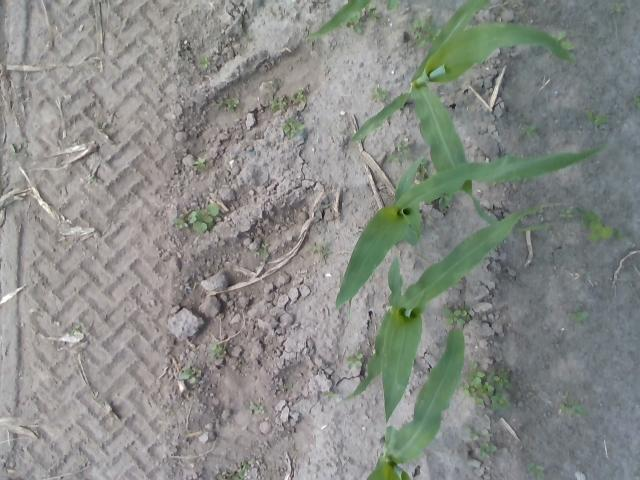Maize: (352, 0, 578, 233), (334, 144, 602, 332), (342, 201, 562, 423), (365, 328, 465, 480), (304, 1, 397, 40)
Weeds: (464, 362, 494, 406), (413, 12, 440, 46), (194, 202, 218, 232), (588, 222, 612, 243), (560, 396, 582, 417), (444, 308, 469, 326), (282, 118, 304, 137), (174, 211, 196, 228), (580, 210, 600, 228), (586, 109, 606, 126), (490, 394, 510, 410), (347, 350, 363, 370), (181, 368, 201, 384), (528, 462, 544, 479), (479, 442, 496, 458), (232, 462, 247, 480), (369, 87, 388, 101), (270, 94, 286, 110), (363, 5, 380, 20), (292, 87, 308, 102), (494, 370, 508, 387), (348, 18, 362, 34), (522, 122, 538, 136), (572, 306, 586, 322), (202, 57, 216, 72), (194, 157, 209, 171), (398, 140, 414, 153), (210, 344, 224, 358), (271, 77, 283, 92), (227, 98, 240, 111), (466, 428, 479, 440), (560, 39, 574, 50), (560, 208, 574, 219), (386, 152, 398, 164), (324, 390, 341, 398), (610, 3, 622, 14), (10, 144, 22, 154), (421, 160, 429, 174), (252, 406, 266, 414), (309, 245, 320, 255), (558, 28, 566, 40), (89, 175, 102, 182), (260, 252, 270, 260), (633, 96, 640, 106), (216, 101, 224, 109), (253, 251, 260, 257), (262, 243, 270, 248), (286, 382, 292, 388)
